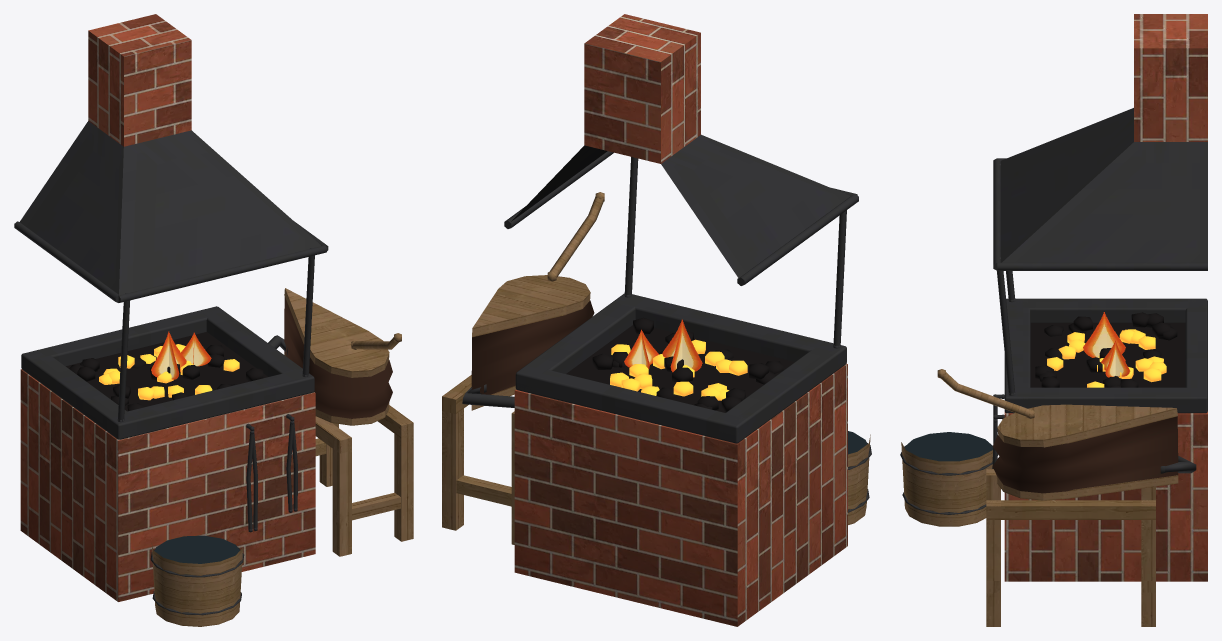
File: prop_forge.glb
The picture shows the model from 3 angles, left to right: view 1: azimuth 30°, elevation 25°; view 2: azimuth 150°, elevation 25°; view 3: azimuth 270°, elevation 25°; orthographic projection. The views are drawn at different scales.
Parts seen in each view (by area): view 1: prop; view 2: prop; view 3: prop.
Boxes of the visible parts, x1,y1,x2,y2 form: prop: [14, 14, 413, 626]; prop: [442, 14, 871, 626]; prop: [900, 14, 1207, 626].
Size of what is drawn, in the model's own units: 0.9504 by 1.5 by 0.833.
8 materials, 5 textured.
